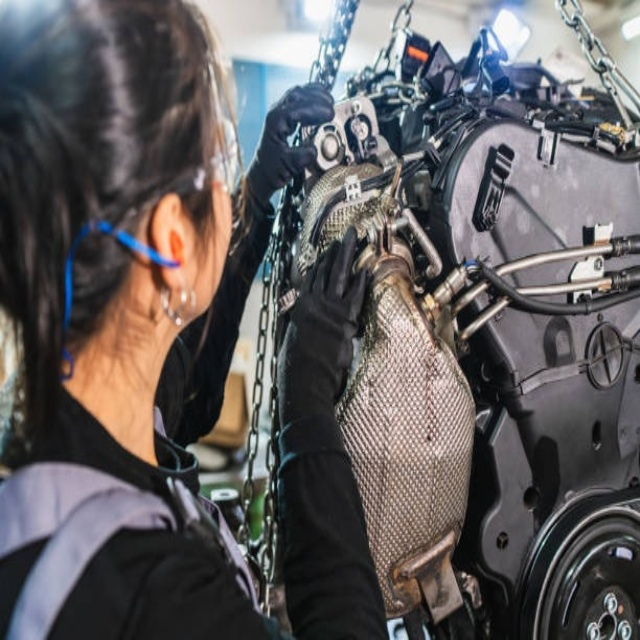Gafas: (109, 115, 239, 234)
Guantes: (275, 226, 369, 430), (245, 79, 339, 223)
